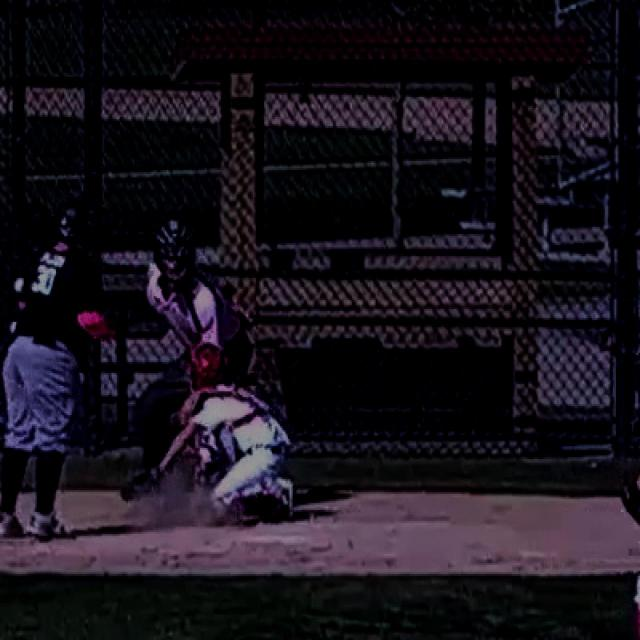baseball: (13, 278, 24, 292)
